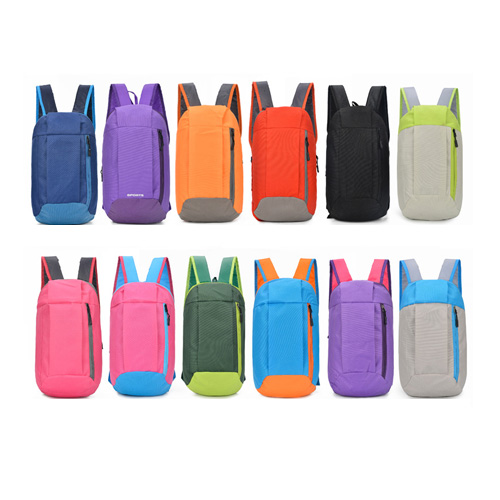backpack: (393, 259, 470, 401), (107, 254, 180, 401), (250, 257, 323, 400), (29, 80, 99, 227), (174, 82, 246, 224), (34, 253, 103, 401), (326, 257, 397, 400), (103, 83, 172, 225), (248, 80, 316, 224), (397, 86, 467, 223), (324, 83, 392, 224), (183, 253, 247, 398)
